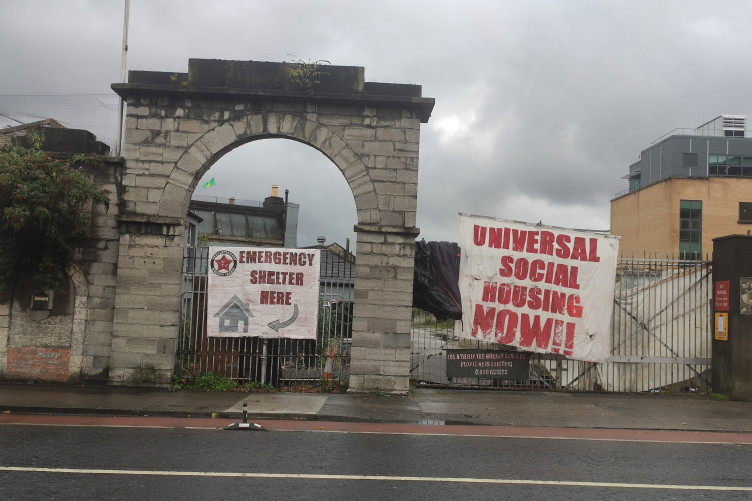vinyl banner: (445, 191, 623, 373)
